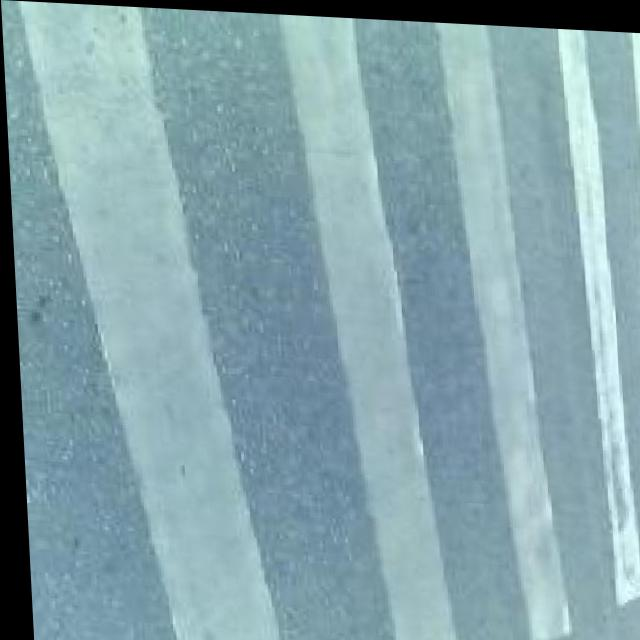zebra: (0, 2, 640, 633)
